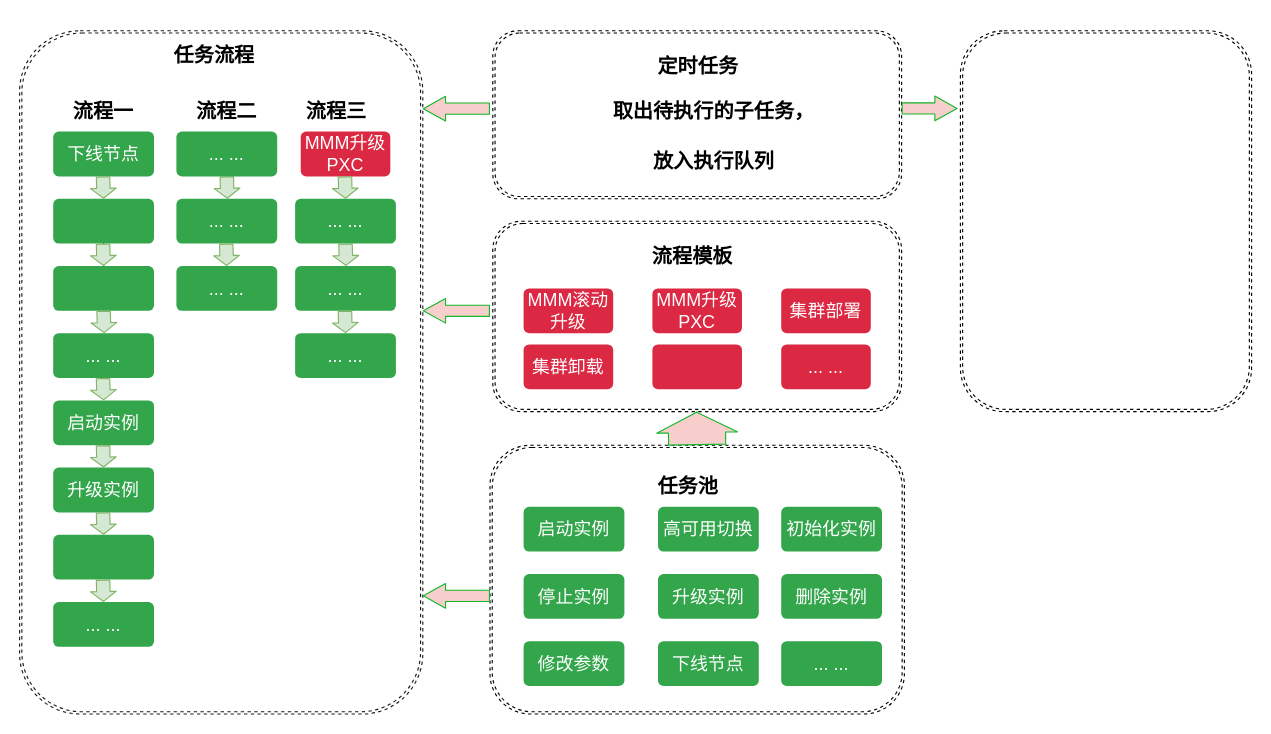
Image size: 1271x734. Some labels were removed from this diagram. Each missing label, with the centre of its shape:
"上线实例" goes at pixel 103 556.
"修改配置" goes at pixel 103 287.
"关闭实例" goes at pixel 103 220.
"执行队列" goes at pixel 1105 221.
"过保替换" goes at pixel 696 366.
